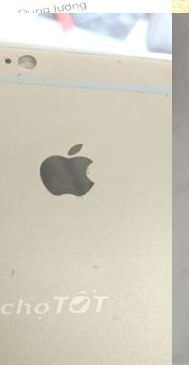scratch: (105, 36, 172, 109), (0, 30, 63, 98)
